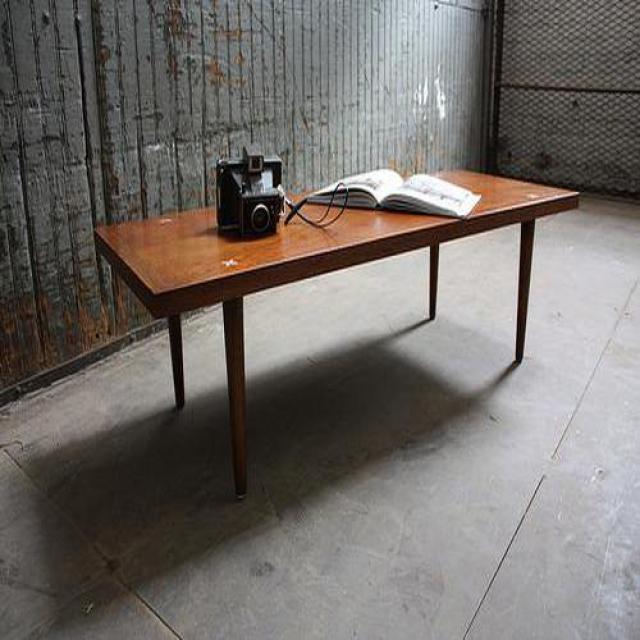table: (95, 169, 581, 497)
